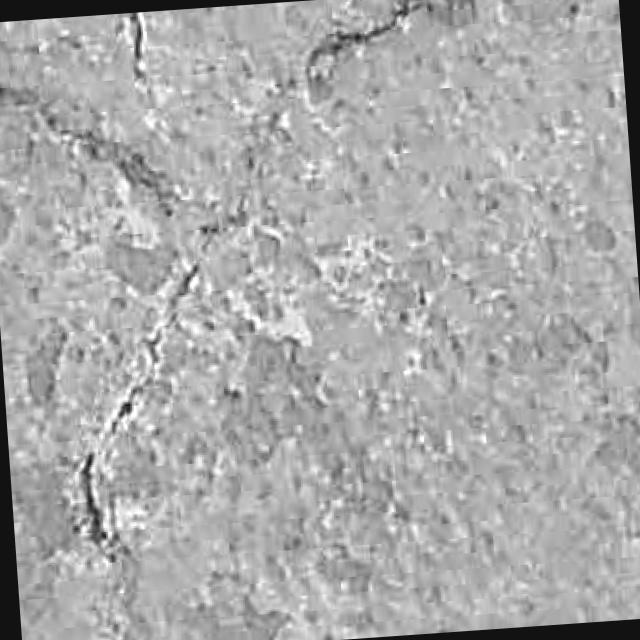crack: (0, 87, 181, 216), (89, 265, 199, 466), (304, 0, 424, 99), (80, 454, 107, 549), (117, 14, 148, 88)
